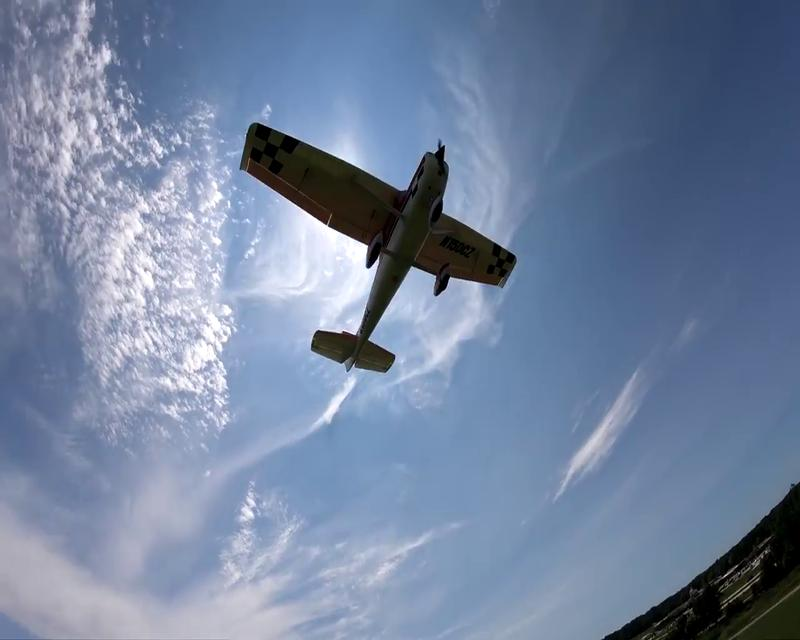UAV: (240, 123, 518, 372)
